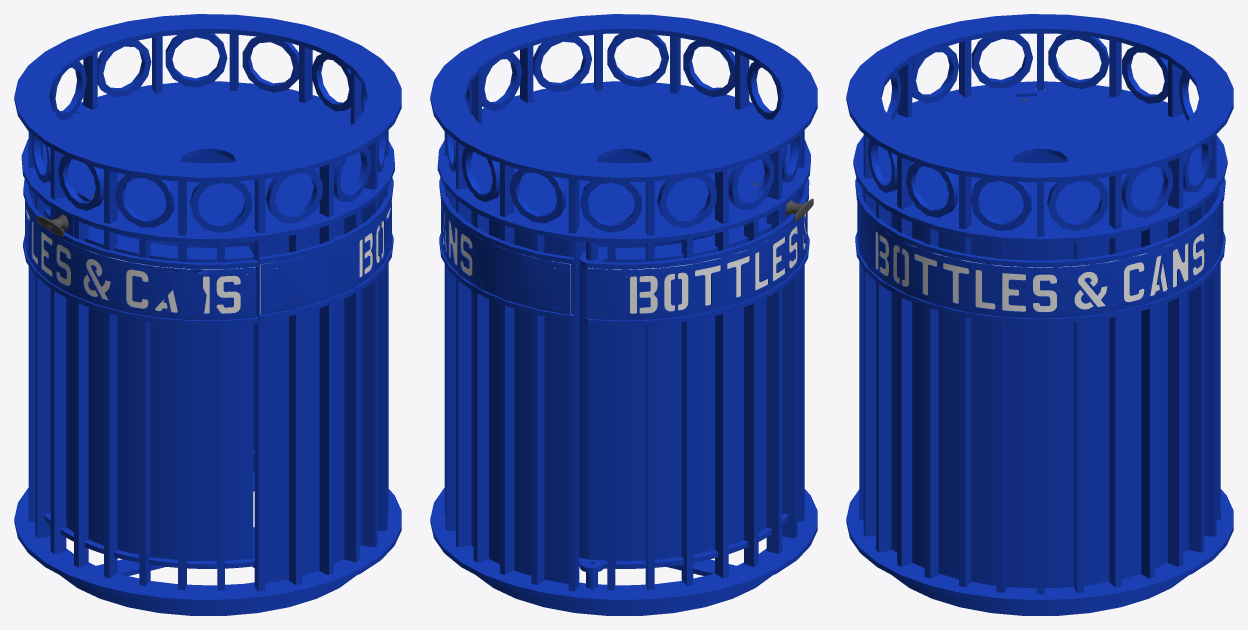
The picture shows the model from 3 angles, left to right: view 1: azimuth 30°, elevation 25°; view 2: azimuth 150°, elevation 25°; view 3: azimuth 270°, elevation 25°; orthographic projection.
Parts seen in each view (by area): view 1: mesh221_mesh221-geometry, mesh80_mesh80-geometry, mesh129_mesh129-geometry, mesh73_mesh73-geometry, mesh6_mesh6-geometry, mesh219_mesh219-geometry, mesh1_mesh1-geometry, mesh223_mesh223-geometry, mesh148_mesh148-geometry, mesh14_mesh14-geometry, mesh182_mesh182-geometry, mesh131_mesh131-geometry (+7 smaller); view 2: mesh221_mesh221-geometry, mesh80_mesh80-geometry, mesh129_mesh129-geometry, mesh73_mesh73-geometry, mesh6_mesh6-geometry, mesh219_mesh219-geometry, mesh1_mesh1-geometry, mesh223_mesh223-geometry, mesh148_mesh148-geometry, mesh14_mesh14-geometry, mesh182_mesh182-geometry, mesh131_mesh131-geometry (+7 smaller); view 3: mesh219_mesh219-geometry, mesh80_mesh80-geometry, mesh6_mesh6-geometry, mesh223_mesh223-geometry, mesh73_mesh73-geometry, mesh182_mesh182-geometry, mesh1_mesh1-geometry, mesh14_mesh14-geometry, mesh227_mesh227-geometry, mesh145_mesh145-geometry, mesh225_mesh225-geometry, mesh124_mesh124-geometry.
Boxes of the visible parts, x1,y1,x2,y2 form: mesh221_mesh221-geometry: [66, 267, 253, 560]; mesh80_mesh80-geometry: [21, 81, 394, 243]; mesh129_mesh129-geometry: [28, 186, 224, 590]; mesh73_mesh73-geometry: [14, 14, 401, 182]; mesh6_mesh6-geometry: [83, 34, 388, 591]; mesh219_mesh219-geometry: [118, 153, 362, 583]; mesh1_mesh1-geometry: [31, 33, 386, 232]; mesh223_mesh223-geometry: [289, 187, 387, 584]; mesh148_mesh148-geometry: [25, 201, 256, 320]; mesh14_mesh14-geometry: [14, 451, 401, 604]; mesh182_mesh182-geometry: [261, 201, 391, 314]; mesh131_mesh131-geometry: [44, 209, 254, 568]; mesh221_mesh221-geometry: [579, 258, 766, 561]; mesh80_mesh80-geometry: [437, 81, 810, 243]; mesh129_mesh129-geometry: [607, 185, 804, 590]; mesh73_mesh73-geometry: [430, 14, 817, 182]; mesh6_mesh6-geometry: [444, 34, 749, 591]; mesh219_mesh219-geometry: [471, 153, 714, 583]; mesh1_mesh1-geometry: [446, 33, 801, 232]; mesh223_mesh223-geometry: [445, 188, 544, 584]; mesh148_mesh148-geometry: [586, 212, 807, 320]; mesh14_mesh14-geometry: [430, 488, 817, 604]; mesh182_mesh182-geometry: [441, 201, 570, 314]; mesh131_mesh131-geometry: [580, 216, 788, 572]; mesh219_mesh219-geometry: [891, 212, 1188, 587]; mesh80_mesh80-geometry: [853, 81, 1227, 243]; mesh6_mesh6-geometry: [863, 134, 1216, 594]; mesh223_mesh223-geometry: [859, 184, 1220, 592]; mesh73_mesh73-geometry: [846, 14, 1233, 182]; mesh182_mesh182-geometry: [857, 201, 1223, 318]; mesh1_mesh1-geometry: [868, 34, 1211, 231]; mesh14_mesh14-geometry: [846, 489, 1233, 604]; mesh227_mesh227-geometry: [855, 178, 1225, 323]; mesh145_mesh145-geometry: [876, 231, 1204, 311]; mesh225_mesh225-geometry: [897, 33, 1183, 117]; mesh124_mesh124-geometry: [892, 575, 1187, 615].
Bounding box in the file's own units: 0.5272 × 0.6713 × 0.521.
